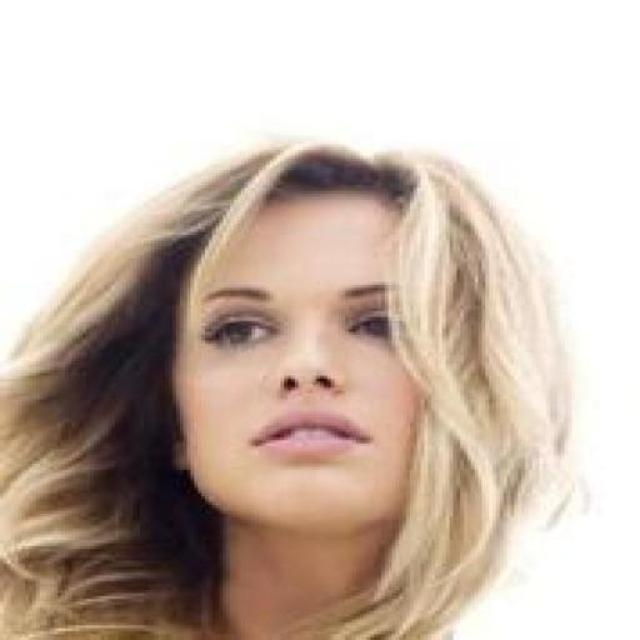bareface: (137, 167, 463, 536)
